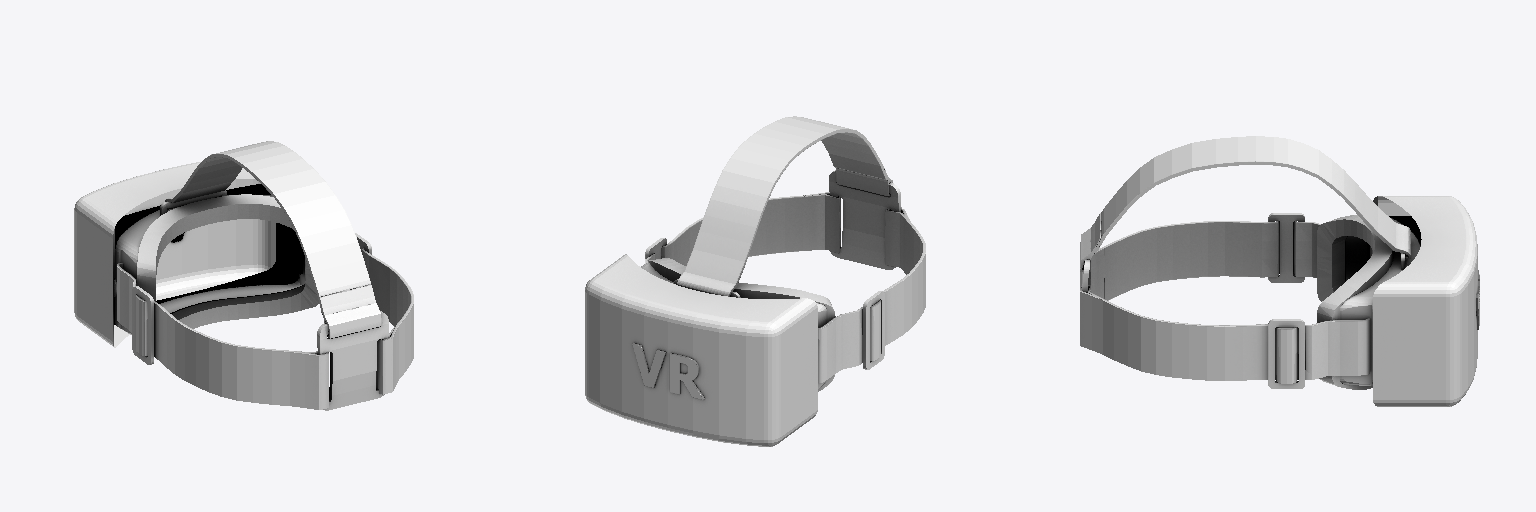
3 views of the same model, side by side, from view 1: azimuth 30°, elevation 25°; view 2: azimuth 150°, elevation 25°; view 3: azimuth 270°, elevation 25° (orthographic).
Visible parts, largest first — view 1: generic_hmd; view 2: generic_hmd; view 3: generic_hmd.
Part boxes in pixels (bbox=[...]): generic_hmd: bbox=[74, 141, 413, 410]; generic_hmd: bbox=[585, 116, 925, 446]; generic_hmd: bbox=[1080, 136, 1479, 406].
Bounding box in the file's own units: 0.2283 × 0.2052 × 0.3475.
Materials: 1 (1 with a texture image).